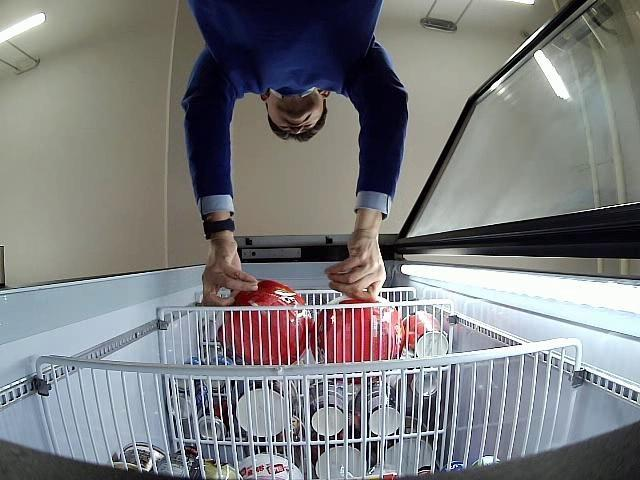10_wangTtukkeong: (227, 281, 312, 365), (313, 296, 404, 363)
